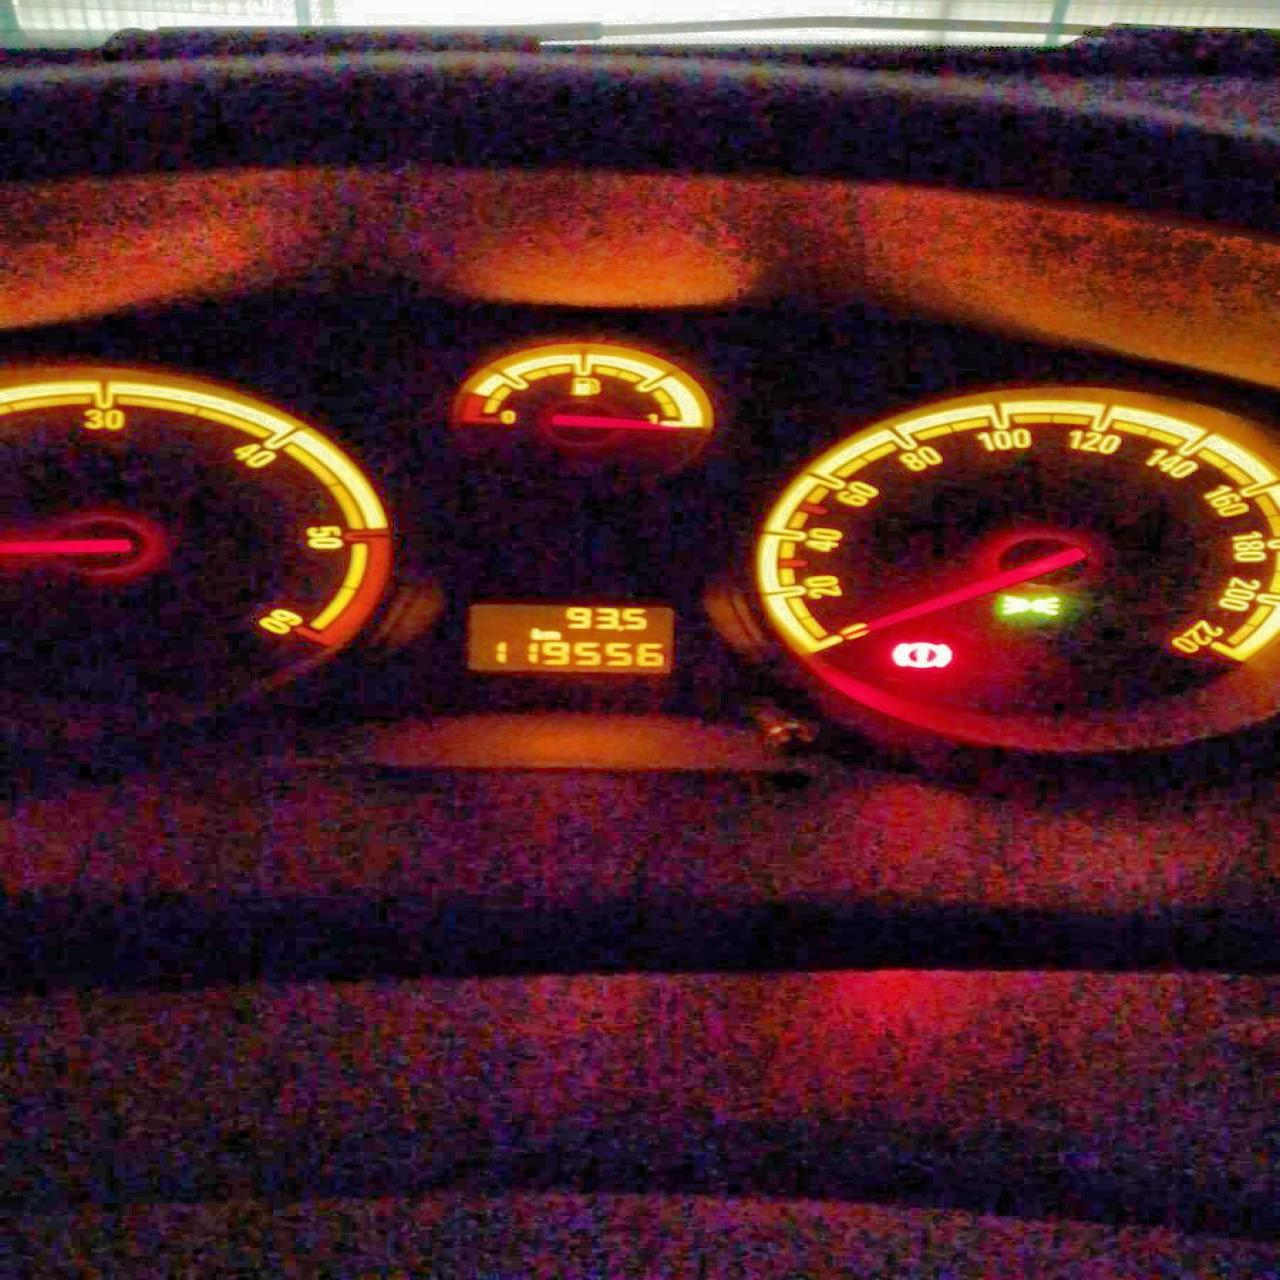-: (615, 624, 625, 631)
1: (493, 640, 508, 663), (524, 641, 538, 663)
3: (593, 606, 619, 628)
5: (570, 640, 601, 666), (602, 641, 632, 666), (620, 607, 647, 631)
6: (633, 641, 665, 667)
9: (540, 641, 571, 665), (564, 606, 592, 628)
X: (529, 626, 543, 640), (545, 629, 560, 640)
odometer: (464, 602, 678, 675)
